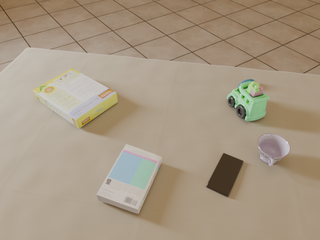book: (97, 144, 162, 214)
box: (33, 68, 118, 128)
cup: (258, 134, 290, 166)
mouse: (238, 79, 255, 87)
phone: (206, 153, 243, 197)
toy_car: (227, 81, 269, 121)
